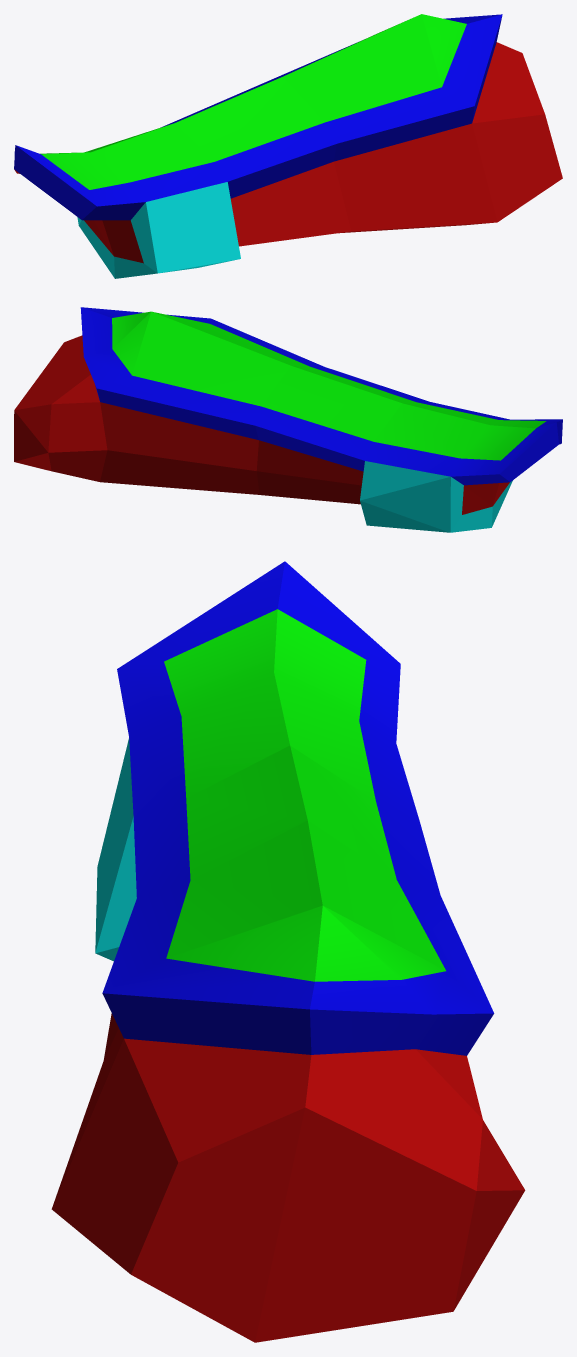
File: Chr_ArmLowerRight_Male_Static_12.fbx
The picture shows the model from 3 angles, top to bottom: view 1: azimuth 30°, elevation 25°; view 2: azimuth 150°, elevation 25°; view 3: azimuth 270°, elevation 25°; orthographic projection. The views are drawn at different scales.
Parts seen in each view (by area): view 1: Chr_ArmLowerRight_Male_12; view 2: Chr_ArmLowerRight_Male_12; view 3: Chr_ArmLowerRight_Male_12.
Boxes of the visible parts, bbox=[...] form: Chr_ArmLowerRight_Male_12: bbox=[14, 14, 562, 278]; Chr_ArmLowerRight_Male_12: bbox=[14, 307, 562, 532]; Chr_ArmLowerRight_Male_12: bbox=[51, 561, 525, 1342].
Size of the model in its own units: 33.59 by 12.22 by 13.71.
